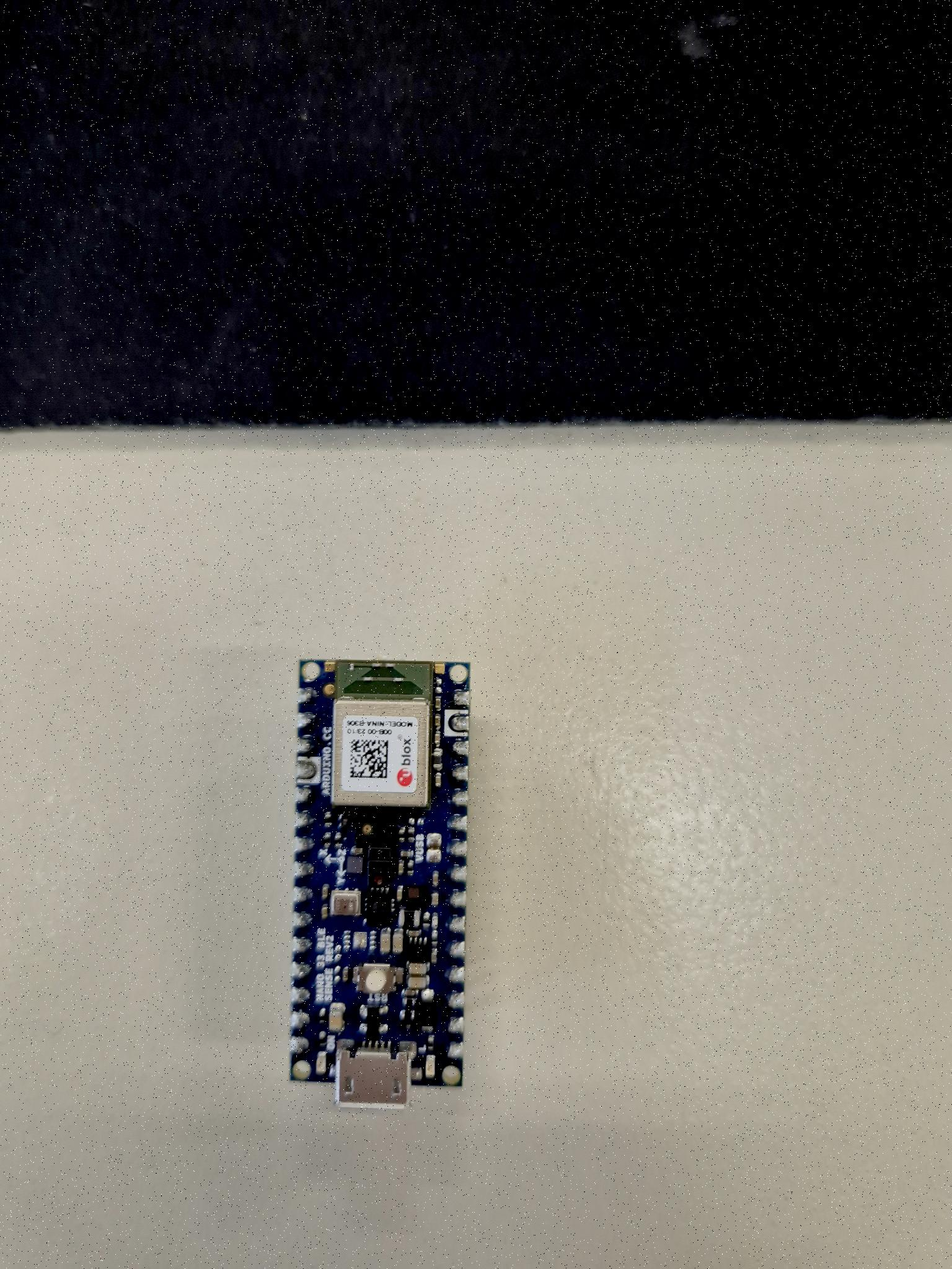arduino-nano-ble-sense: (291, 661, 469, 1108)
